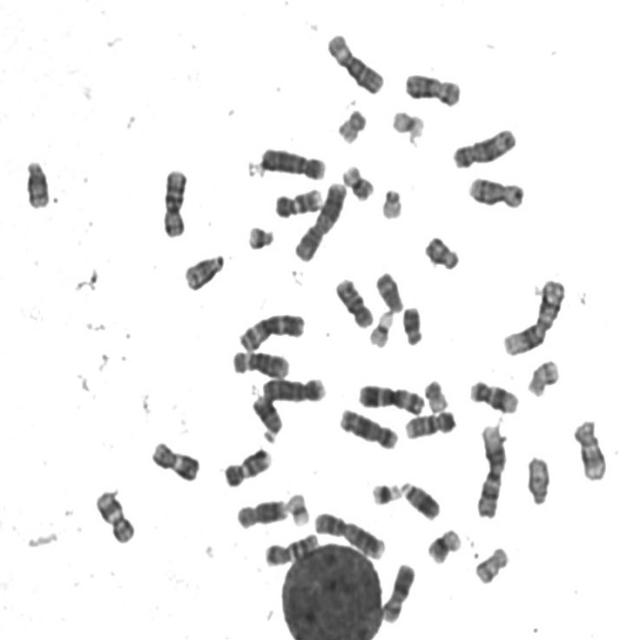A1: (498, 272, 569, 357), (472, 417, 509, 520)
A2: (290, 175, 350, 263), (310, 506, 388, 560)
A3: (235, 306, 308, 352), (353, 377, 428, 415)
B4: (254, 142, 328, 180), (259, 370, 329, 404)
B5: (448, 122, 519, 170), (334, 402, 400, 451)
C10: (331, 271, 376, 329), (224, 451, 278, 494)
C11: (91, 484, 138, 544), (147, 436, 202, 482)
C12: (570, 414, 610, 482), (465, 373, 522, 415)
C6: (322, 26, 388, 95), (227, 344, 293, 379)
C7: (157, 162, 190, 238), (262, 526, 321, 568)
C8: (464, 170, 527, 210), (232, 492, 290, 530)
C9: (400, 404, 459, 440), (271, 182, 325, 218)
D13: (397, 474, 443, 522), (247, 390, 285, 442)
D14: (181, 251, 230, 292), (21, 152, 53, 210)
D15: (522, 449, 553, 506), (372, 266, 406, 313)
E16: (423, 522, 464, 566), (338, 158, 377, 202)
E17: (470, 540, 512, 586), (522, 352, 562, 398)
E18: (420, 230, 462, 272), (399, 300, 425, 346)
F19: (388, 104, 428, 138), (365, 304, 395, 348)
F20: (333, 102, 369, 144), (283, 491, 313, 528)
G21: (243, 218, 278, 250), (367, 476, 404, 506)
G22: (420, 373, 451, 413), (377, 182, 406, 220)
X: (378, 557, 418, 624), (401, 66, 463, 108)
